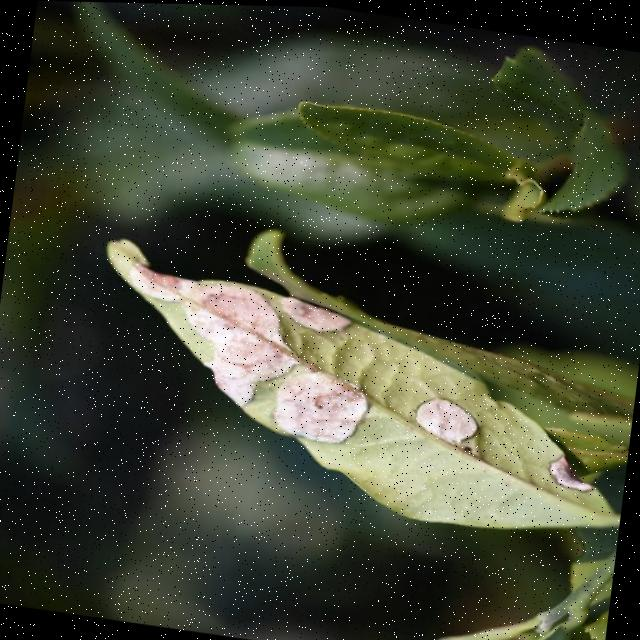Tea cake: (110, 263, 276, 389), (268, 362, 372, 447), (411, 387, 482, 442), (275, 280, 346, 331), (542, 441, 602, 492)
